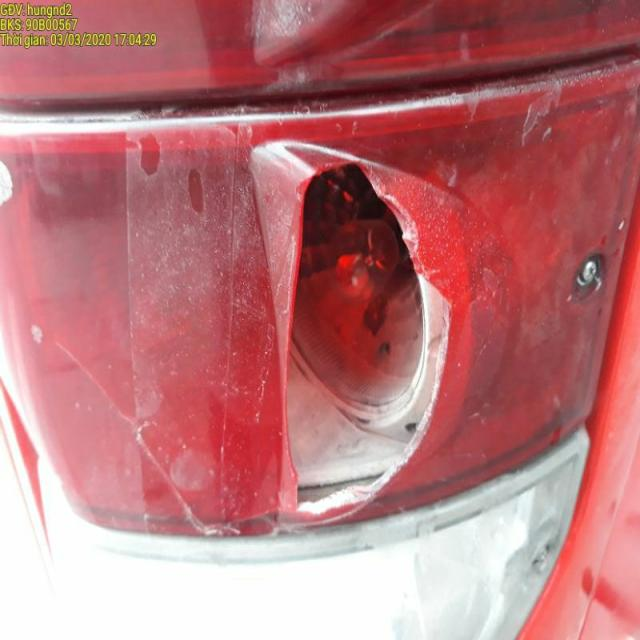Phare abime: (274, 146, 470, 540)
